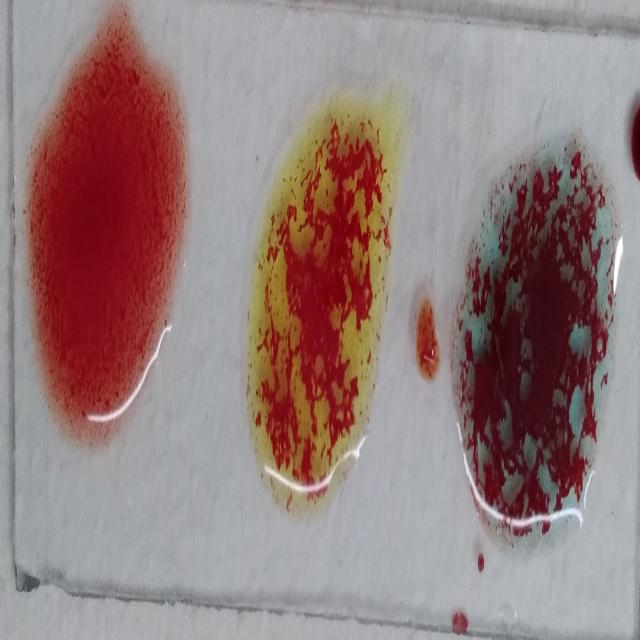A: (451, 132, 616, 564)
B: (238, 104, 391, 503)
D: (26, 25, 182, 448)
